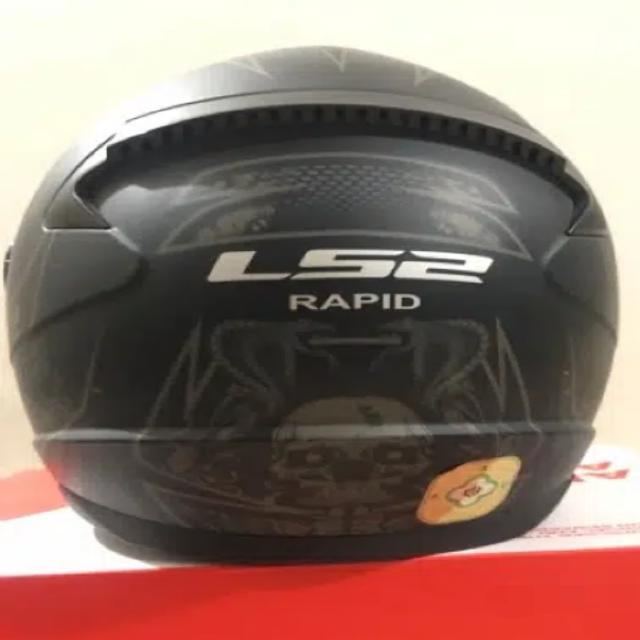Helmet: (32, 34, 640, 594)
